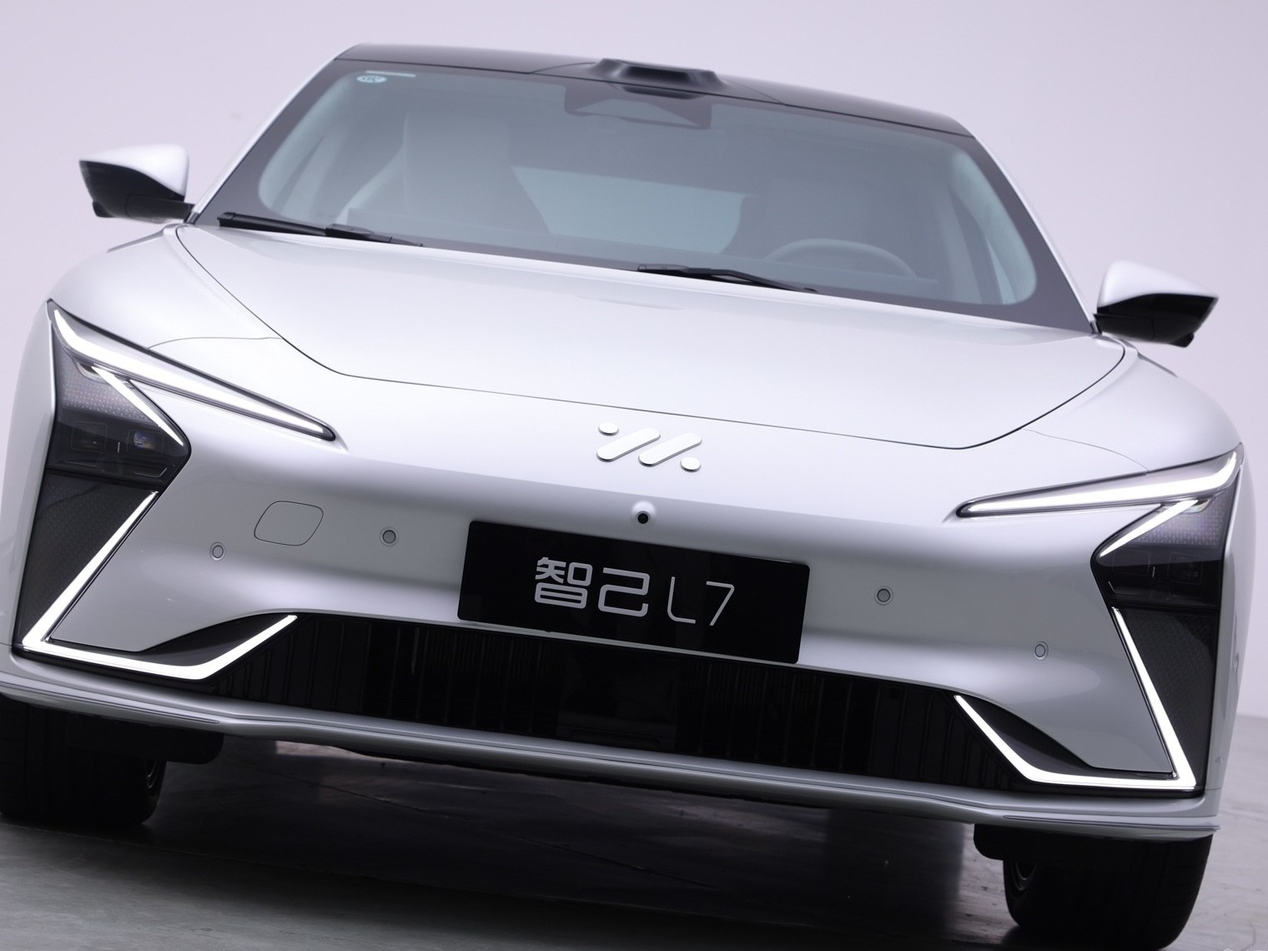IM: (597, 423, 701, 471)
